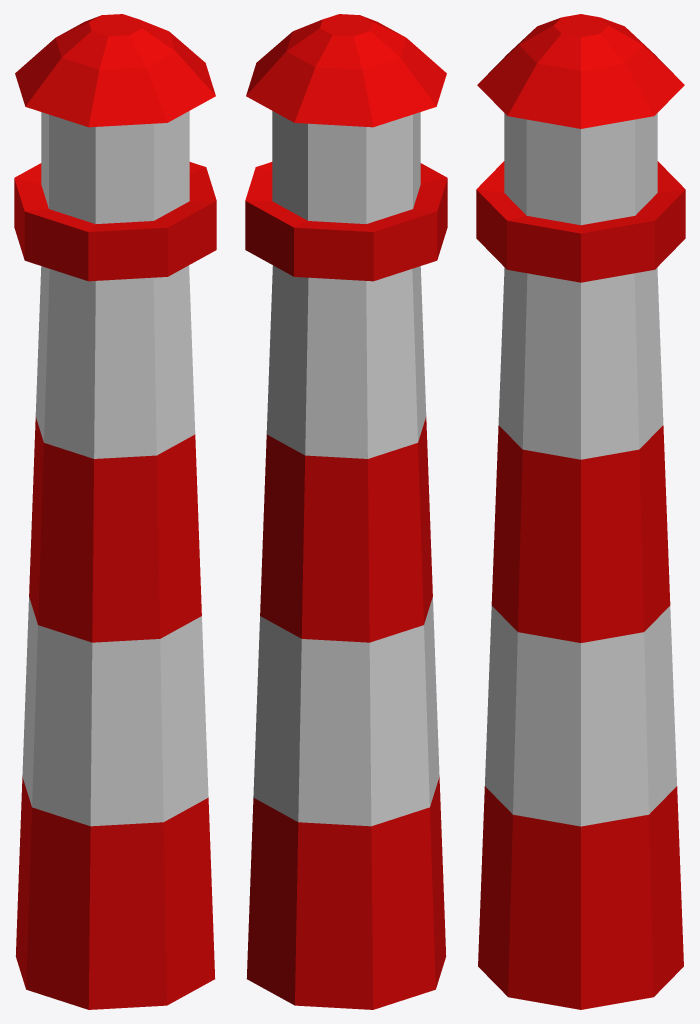
File: Lighthouse.fbx
3 renders of one model, left to right at view 1: azimuth 30°, elevation 25°; view 2: azimuth 150°, elevation 25°; view 3: azimuth 270°, elevation 25°, orthographic.
Parts seen in each view (by area): view 1: Cylinder.003; view 2: Cylinder.003; view 3: Cylinder.003.
Part boxes in pixels (x1,y1,x2,y2): Cylinder.003: [14, 14, 216, 1009]; Cylinder.003: [245, 14, 447, 1009]; Cylinder.003: [476, 14, 685, 1009].
Bounding box in the file's own units: 203 × 1008 × 203.
